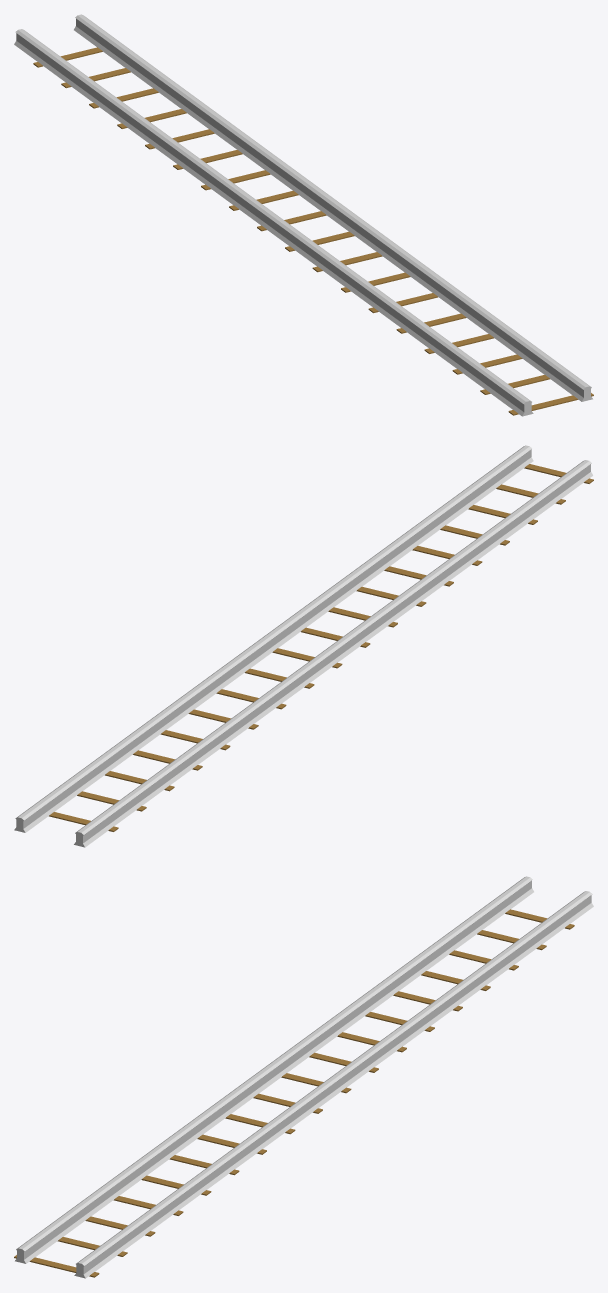
The model's file is straight.fbx.
3 views of the same model, one above another, from view 1: azimuth 30°, elevation 25°; view 2: azimuth 150°, elevation 25°; view 3: azimuth 330°, elevation 25° (orthographic).
Parts seen in each view (by area): view 1: Top, Bot; view 2: Top, Bot; view 3: Top, Bot.
Boxes of the visible parts, x1,y1,x2,y2 form: Top: (14,14,592,416); Bot: (33,47,593,415); Top: (14,445,592,847); Bot: (49,464,593,831); Top: (15,876,593,1278); Bot: (14,909,574,1277).
Bounding box in the file's own units: 333 × 58.2 × 3633.
